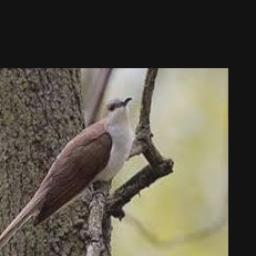Cuckoo: (0, 97, 133, 256)
